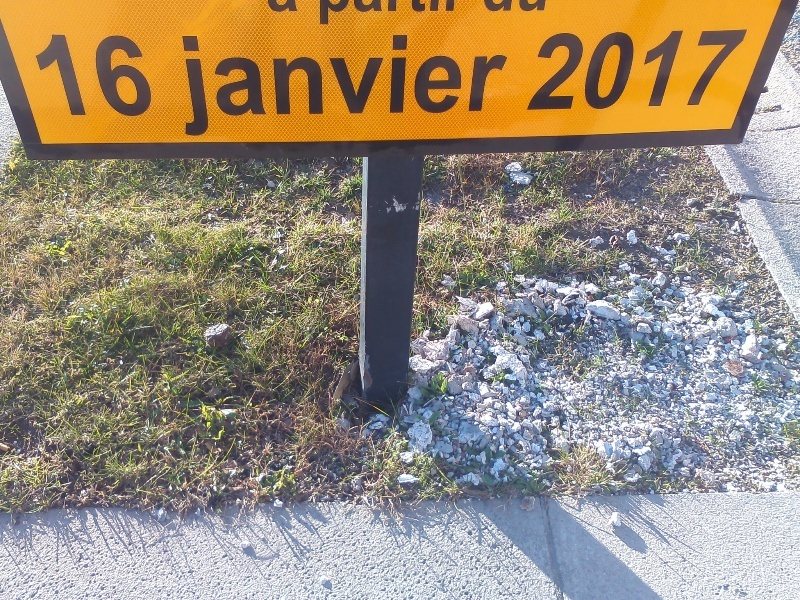text: (193, 32, 208, 137), (209, 32, 224, 137), (225, 32, 240, 137), (241, 32, 256, 137), (257, 32, 272, 137), (273, 32, 288, 137), (289, 32, 304, 137), (305, 32, 320, 137), (321, 32, 336, 137), (337, 32, 352, 137), (353, 32, 368, 137), (369, 32, 384, 137), (385, 32, 400, 137), (401, 32, 416, 137), (417, 32, 432, 137), (433, 32, 448, 137), (449, 32, 464, 137), (465, 32, 480, 137), (481, 32, 496, 137), (33, 33, 48, 117), (49, 33, 64, 117), (65, 33, 80, 117), (81, 33, 96, 117), (97, 33, 112, 117), (113, 33, 128, 117), (129, 33, 144, 117), (180, 32, 192, 137), (497, 32, 509, 137), (545, 27, 560, 111), (561, 27, 576, 111), (577, 27, 592, 111), (593, 27, 608, 111), (609, 27, 624, 111), (625, 27, 640, 111), (641, 27, 656, 111), (657, 27, 672, 111), (673, 27, 688, 111), (689, 27, 704, 111), (705, 27, 720, 111), (721, 27, 736, 111), (737, 27, 752, 111), (145, 33, 157, 117), (26, 33, 32, 117), (321, 1, 336, 26), (337, 1, 352, 26), (353, 1, 368, 26), (369, 1, 384, 26), (385, 1, 400, 26), (401, 1, 416, 26), (417, 1, 432, 26), (433, 1, 448, 26), (541, 27, 544, 111), (273, 1, 288, 13), (497, 1, 512, 11), (513, 1, 528, 11), (529, 1, 544, 11), (449, 1, 454, 26), (289, 1, 299, 13), (484, 1, 496, 11), (267, 1, 272, 13), (545, 1, 547, 11)
